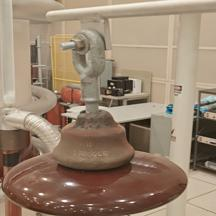insulator: (1, 105, 193, 216)
